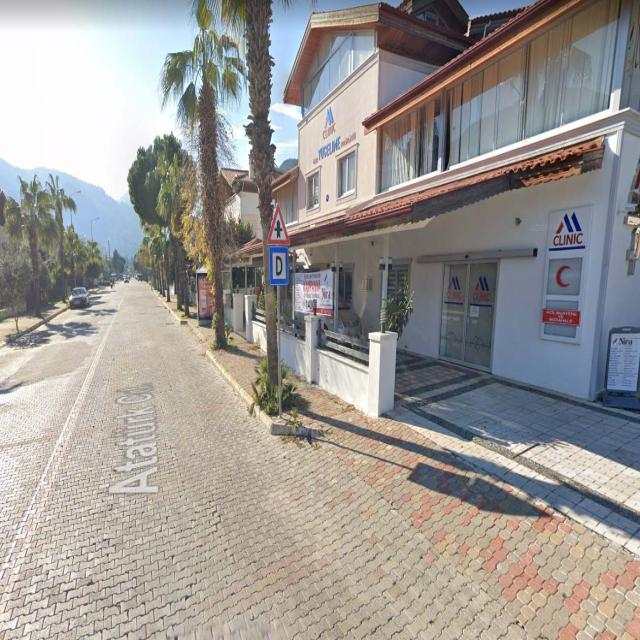durak: (270, 248, 288, 283)
